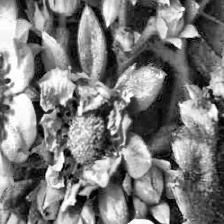Blossom Blight: (52, 89, 124, 184), (0, 48, 13, 151)
